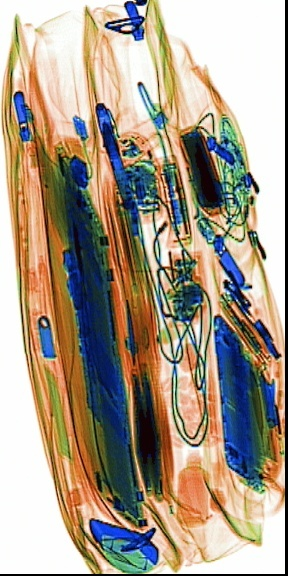powerbank: (174, 118, 233, 221)
